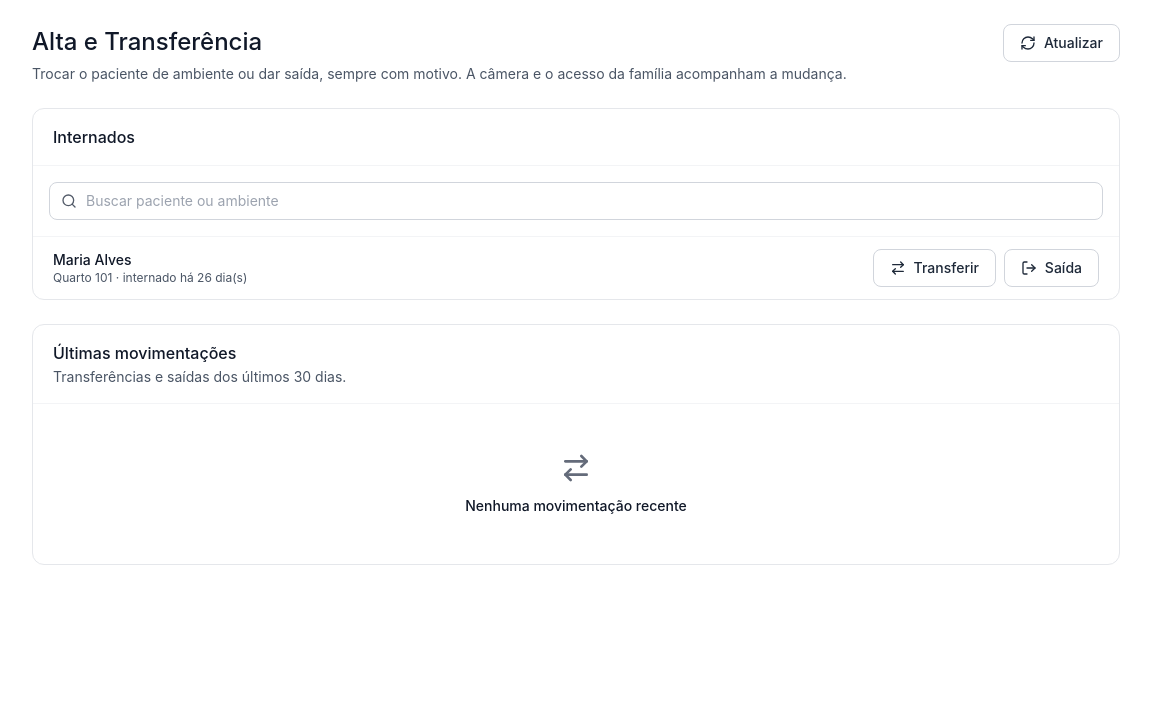
Test: Alta e transferência › dar saída: registra, conta os acessos da família encerrados e busca a lista de novo
Expected: the text "Maria Alves" is shown, [53,251,132,268]
Click the button "Saída": point(1051, 268) [1004,249,1099,287]
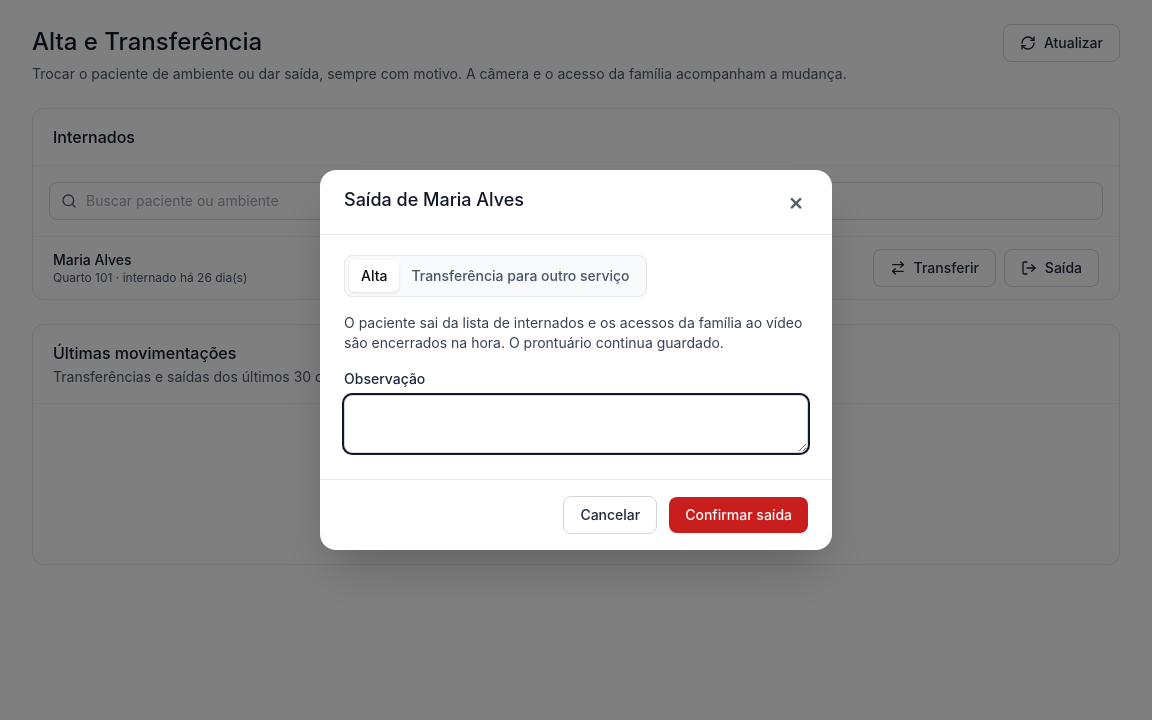
Click the radio button labelled "Transferência para outro serviço": point(521, 276) [400,260,642,292]
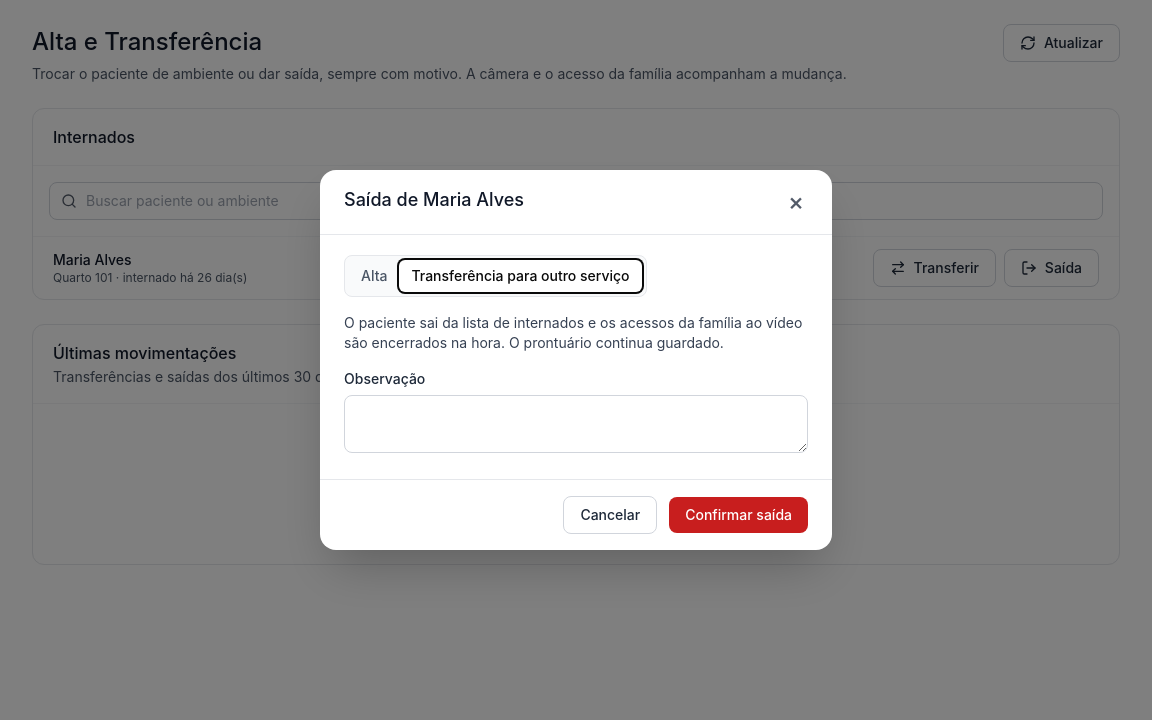
In the text box labelled "Observação": point(576, 424) [344,395,808,453], type "Levada ao hospital X"
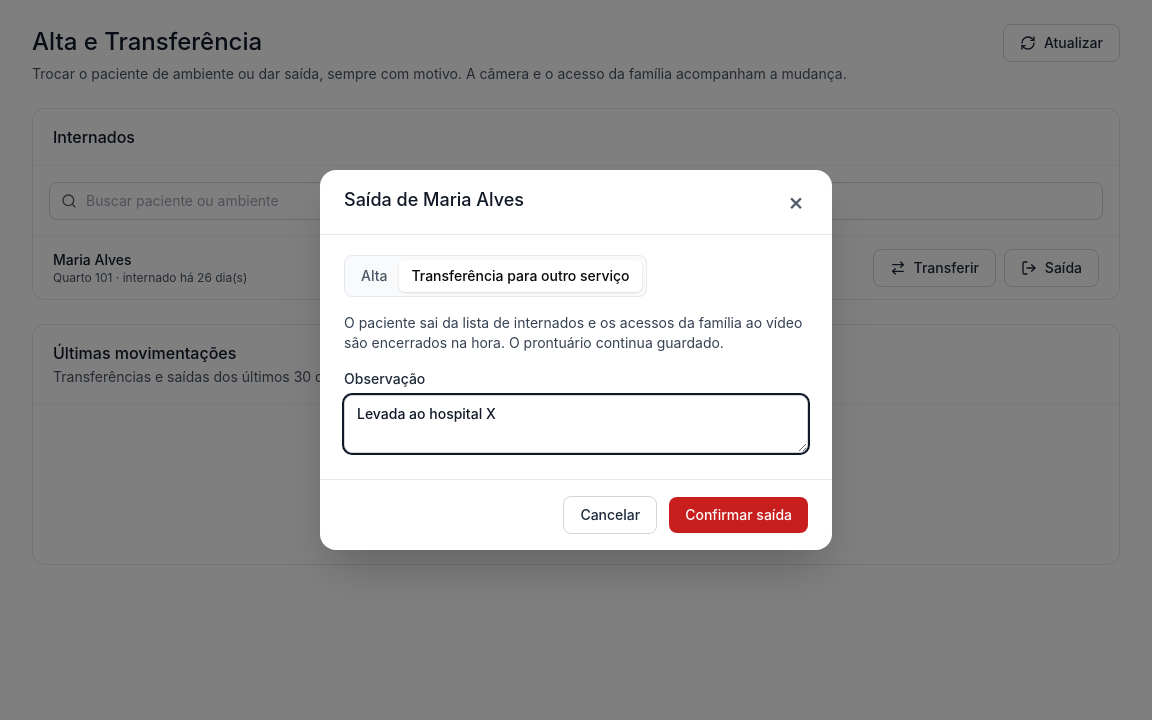
Click the button "Confirmar saída": point(739, 515) [669,497,808,533]
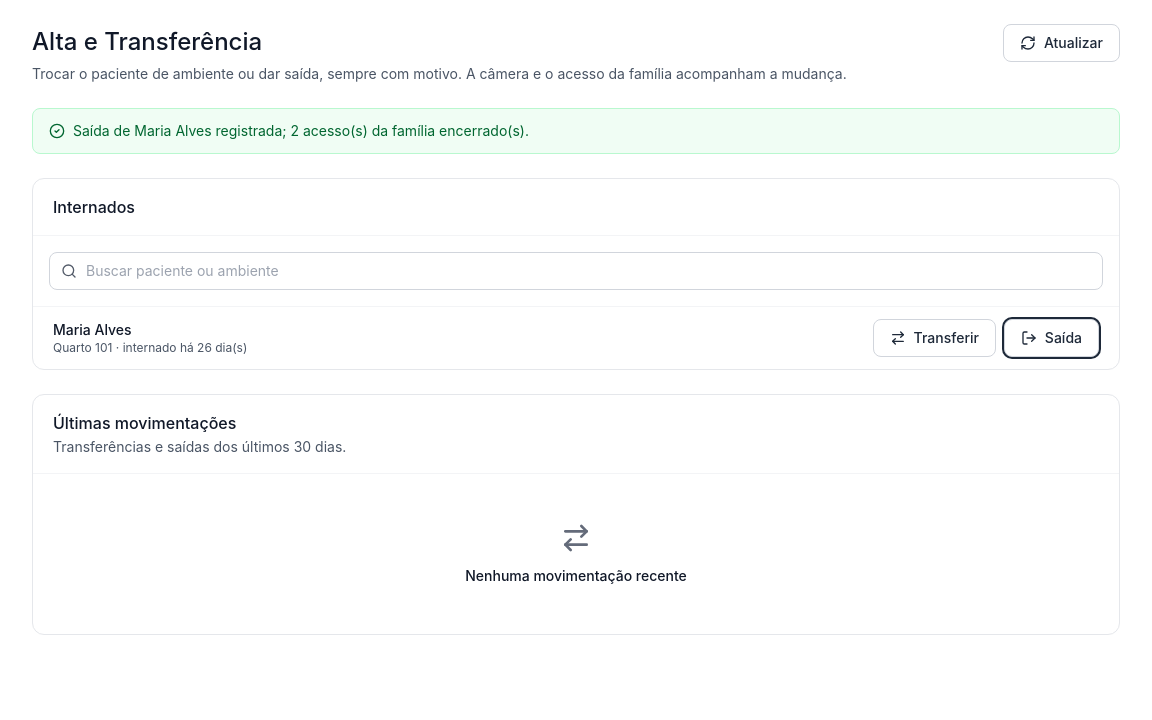
Result: the text "Saída de Maria Alves registrada; 2 acesso(s) da família encerrado(s)." is shown at [73,121,529,141]
